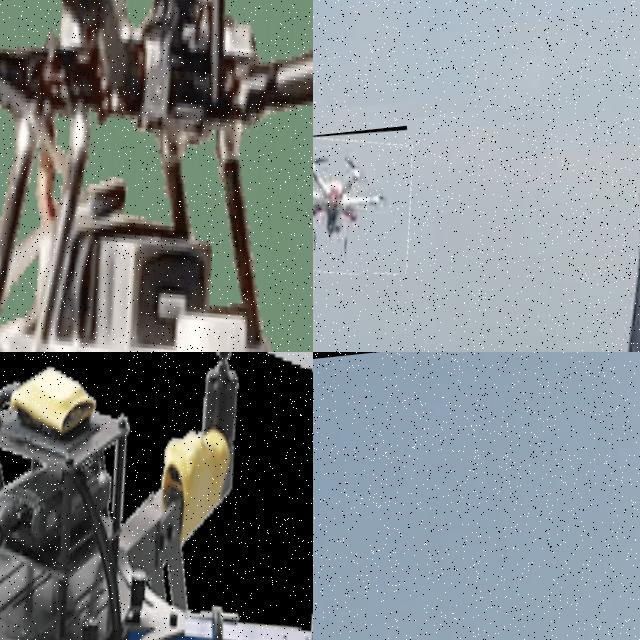drone: (0, 0, 313, 352), (0, 352, 313, 640), (313, 125, 421, 283)
